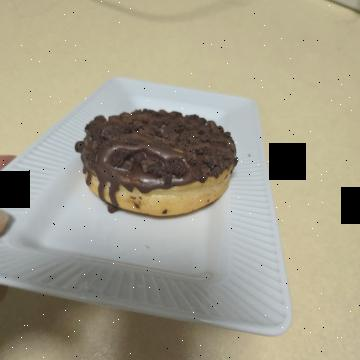doughnut: (94, 106, 236, 287)
